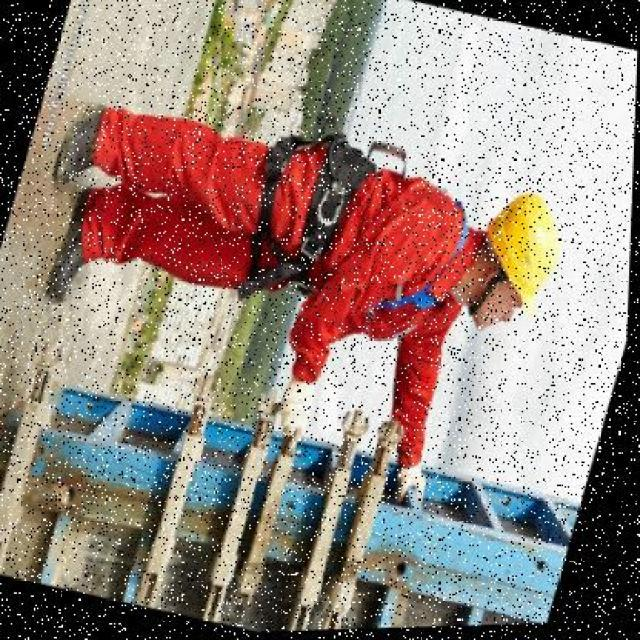helmet: (463, 188, 574, 352)
vest: (199, 134, 487, 412)
